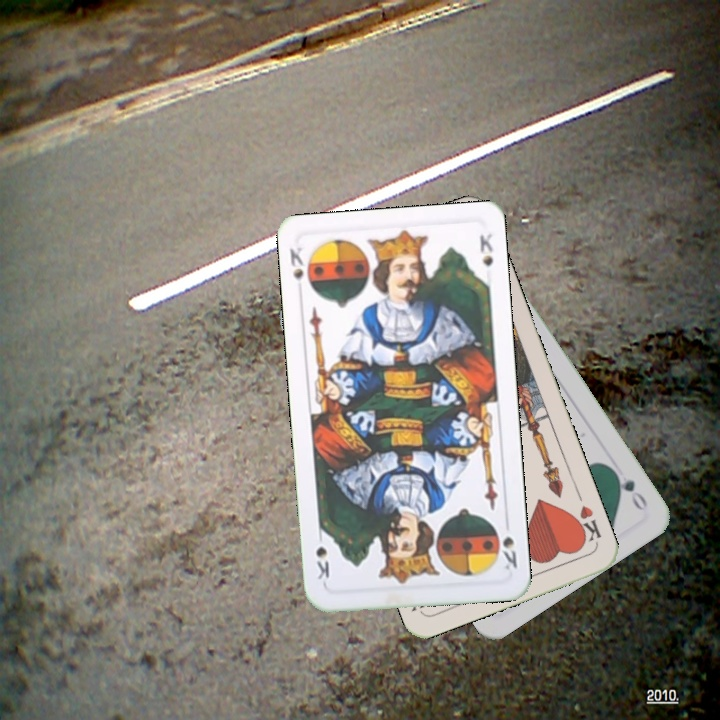GO: (607, 465, 651, 513)
HK: (569, 501, 604, 547)
SK: (492, 523, 520, 572), (285, 243, 306, 299)
